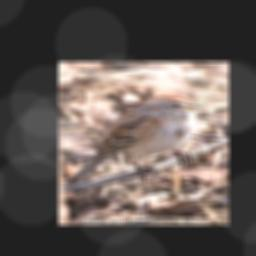Sparrow: (63, 92, 204, 196)
